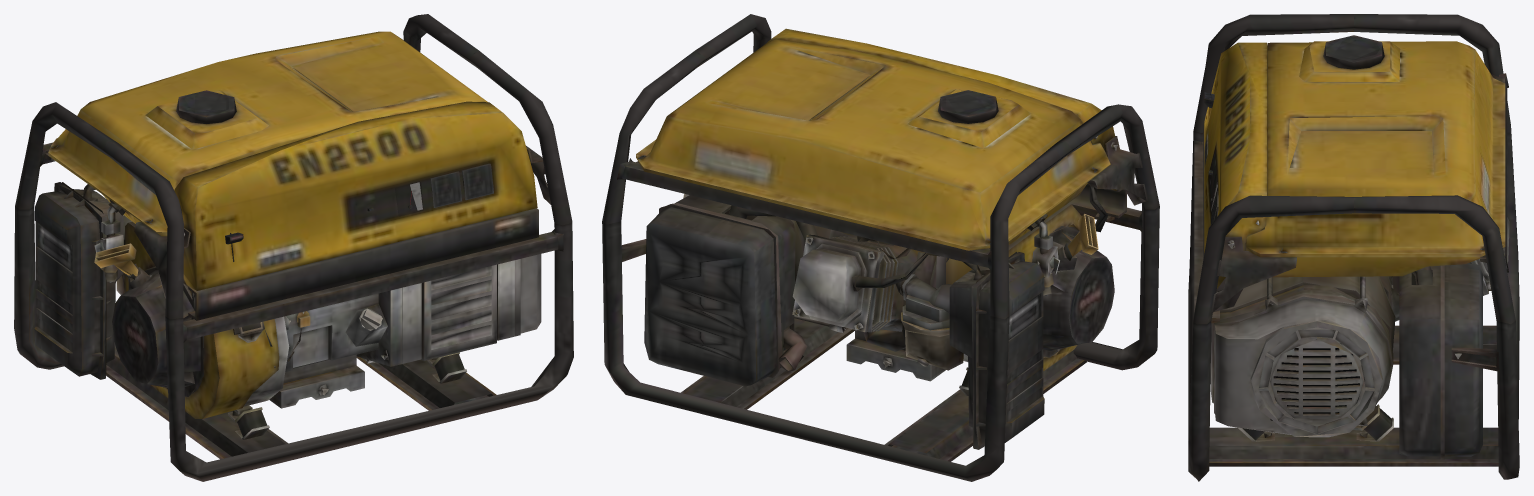
Rendered from portable_generator.glb.
3 views of the same model, side by side, from view 1: azimuth 30°, elevation 25°; view 2: azimuth 150°, elevation 25°; view 3: azimuth 270°, elevation 25° (orthographic).
Visible parts, largest first — view 1: portable_generator; view 2: portable_generator; view 3: portable_generator.
Boxes of the visible parts, x1,y1,x2,y2 form: portable_generator: (14, 14, 573, 481); portable_generator: (602, 14, 1159, 481); portable_generator: (1188, 14, 1519, 481).
Size of the model in its own units: 0.8146 by 0.5752 by 0.564.
2 materials, 2 textured.
